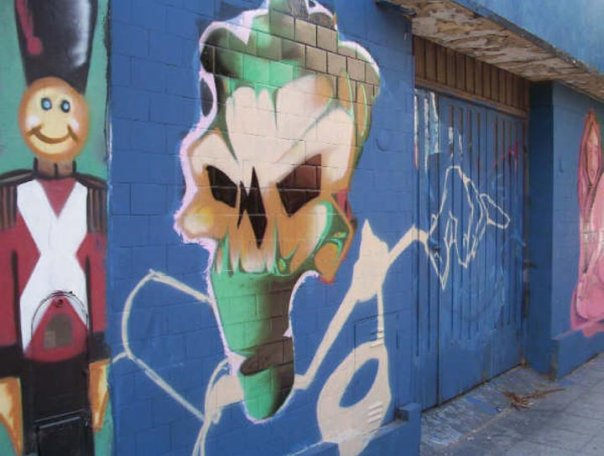graffity: (168, 2, 512, 456), (1, 1, 115, 456), (569, 104, 602, 342)
